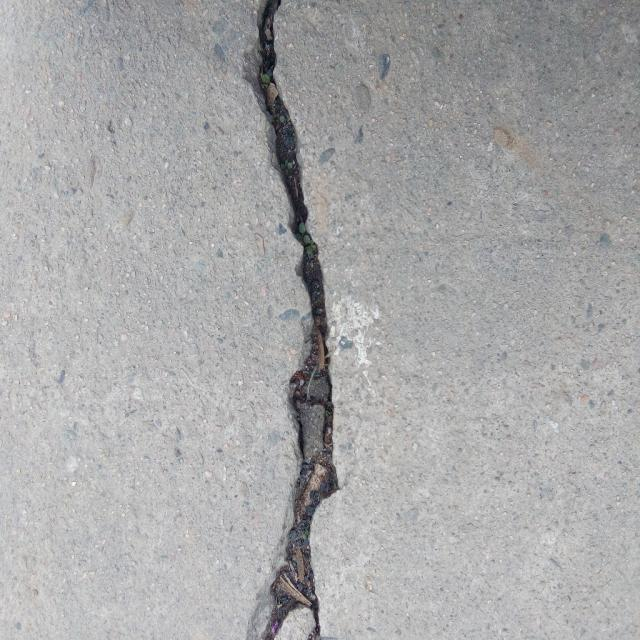cracks: (211, 15, 385, 629)
